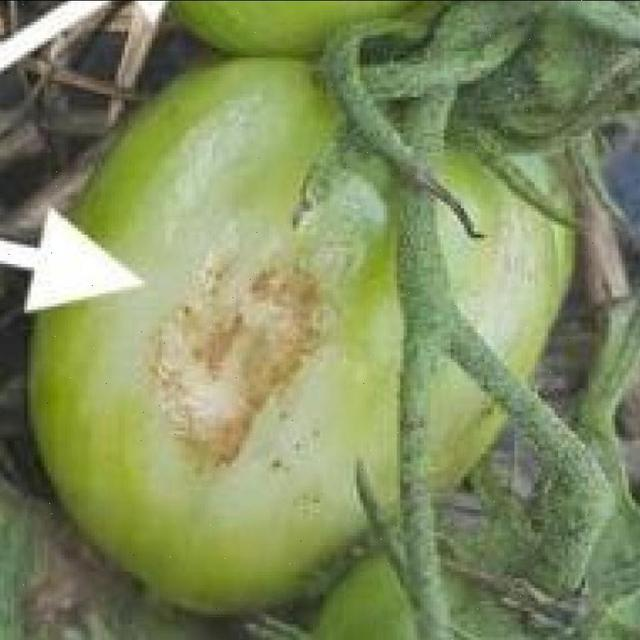Sunscald Fruit: (81, 137, 231, 332)
